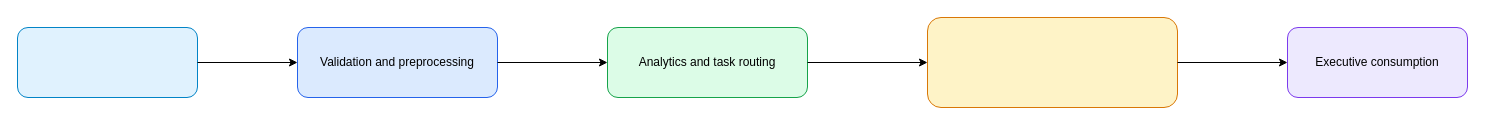
This 1485x125 diagram has some shape labels left out. Here are the shapes that lost their labels. From the top down, the centre of each, then its label:
At (x=107, y=62): "CSV and text uploads".
At (x=1052, y=62): "Outputs reports | dashboards | knowledge artifacts".
